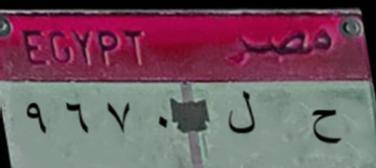0: (154, 109, 170, 132)
6: (64, 94, 95, 138)
7: (105, 96, 134, 136)
7aa: (302, 101, 348, 148)
9: (21, 98, 56, 140)
laam: (222, 88, 258, 143)
